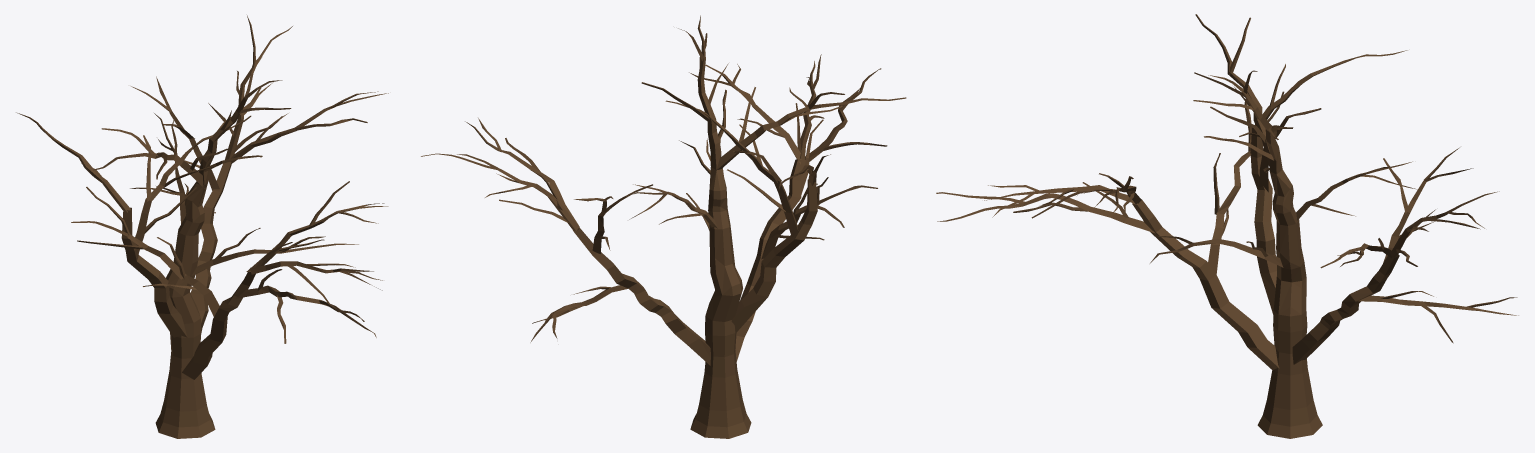
Rendered from ADDON_PLANTS_DEADTREE_01_2300P.OBJ.
The picture shows the model from 3 angles, left to right: view 1: azimuth 30°, elevation 25°; view 2: azimuth 150°, elevation 25°; view 3: azimuth 270°, elevation 25°; orthographic projection. The views are drawn at different scales.
Visible parts, largest first — view 1: ADDON_PLANTS_DEADTREE_01_2300P; view 2: ADDON_PLANTS_DEADTREE_01_2300P; view 3: ADDON_PLANTS_DEADTREE_01_2300P.
Boxes of the visible parts, x1,y1,x2,y2 form: ADDON_PLANTS_DEADTREE_01_2300P: (16,15,388,438); ADDON_PLANTS_DEADTREE_01_2300P: (421,15,906,438); ADDON_PLANTS_DEADTREE_01_2300P: (936,14,1518,438).
Size of the model in its own units: 21.45 by 20.49 by 28.15.
